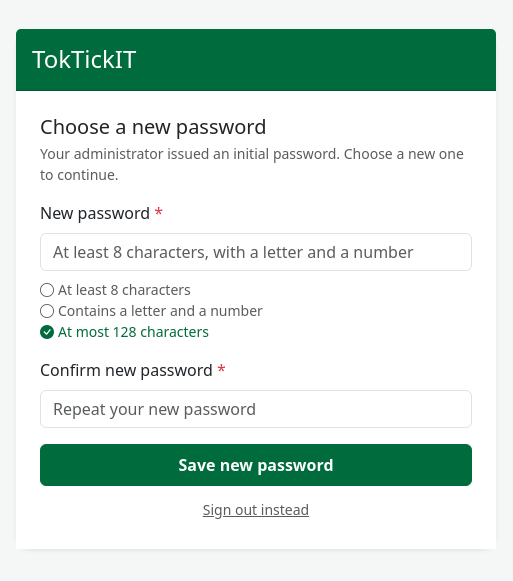
Scenario: ChangePassword (lab-03) › surfaces server validation with values preserved
Type "Password123!" into the password field labelled "New password *".
click(256, 252); type("Password123!")  # box top-left (40, 233), bottom-right (472, 271)
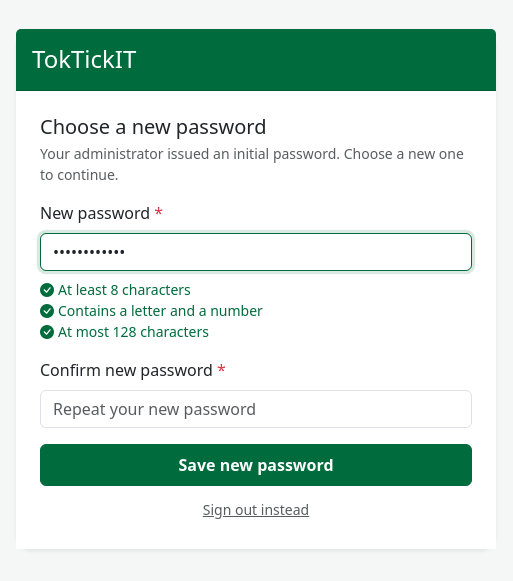
Type "Password123!" into the password field labelled "Confirm new password *".
click(256, 409); type("Password123!")  # box top-left (40, 390), bottom-right (472, 428)
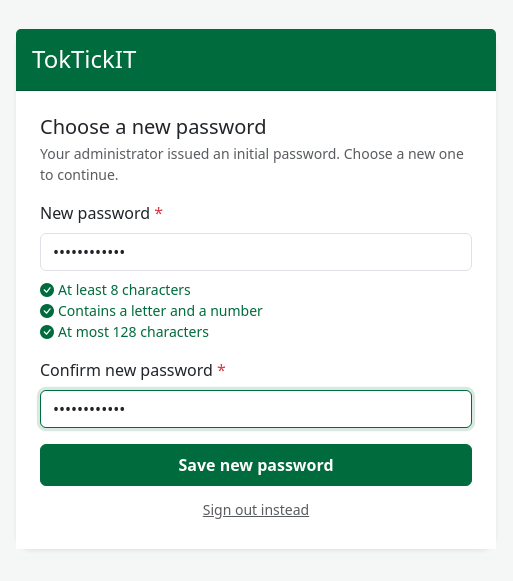
Click the button "Save new password".
click(256, 465)  # box top-left (40, 444), bottom-right (472, 486)
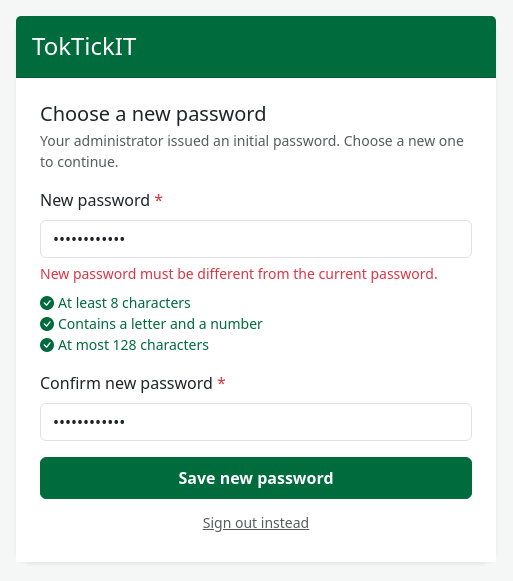
Check: the text "New password must be different from the current password." is shown, box top-left (40, 263), bottom-right (472, 284)
